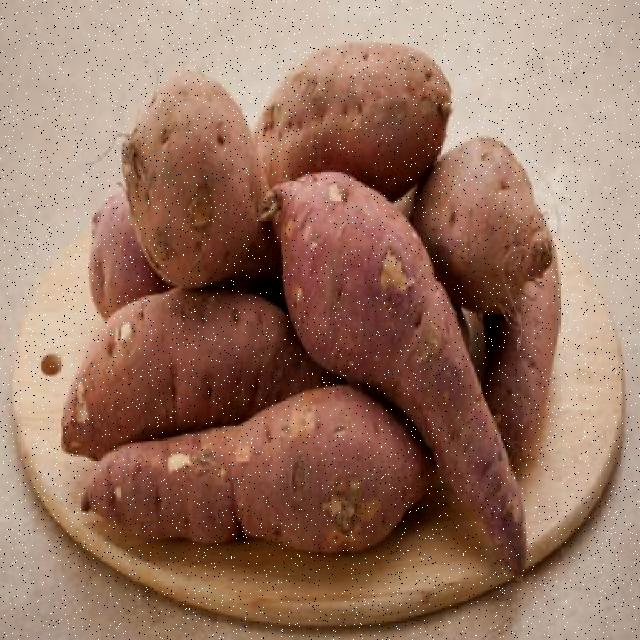Sweet Potato: (263, 162, 554, 573), (46, 348, 440, 572), (113, 39, 272, 304)
